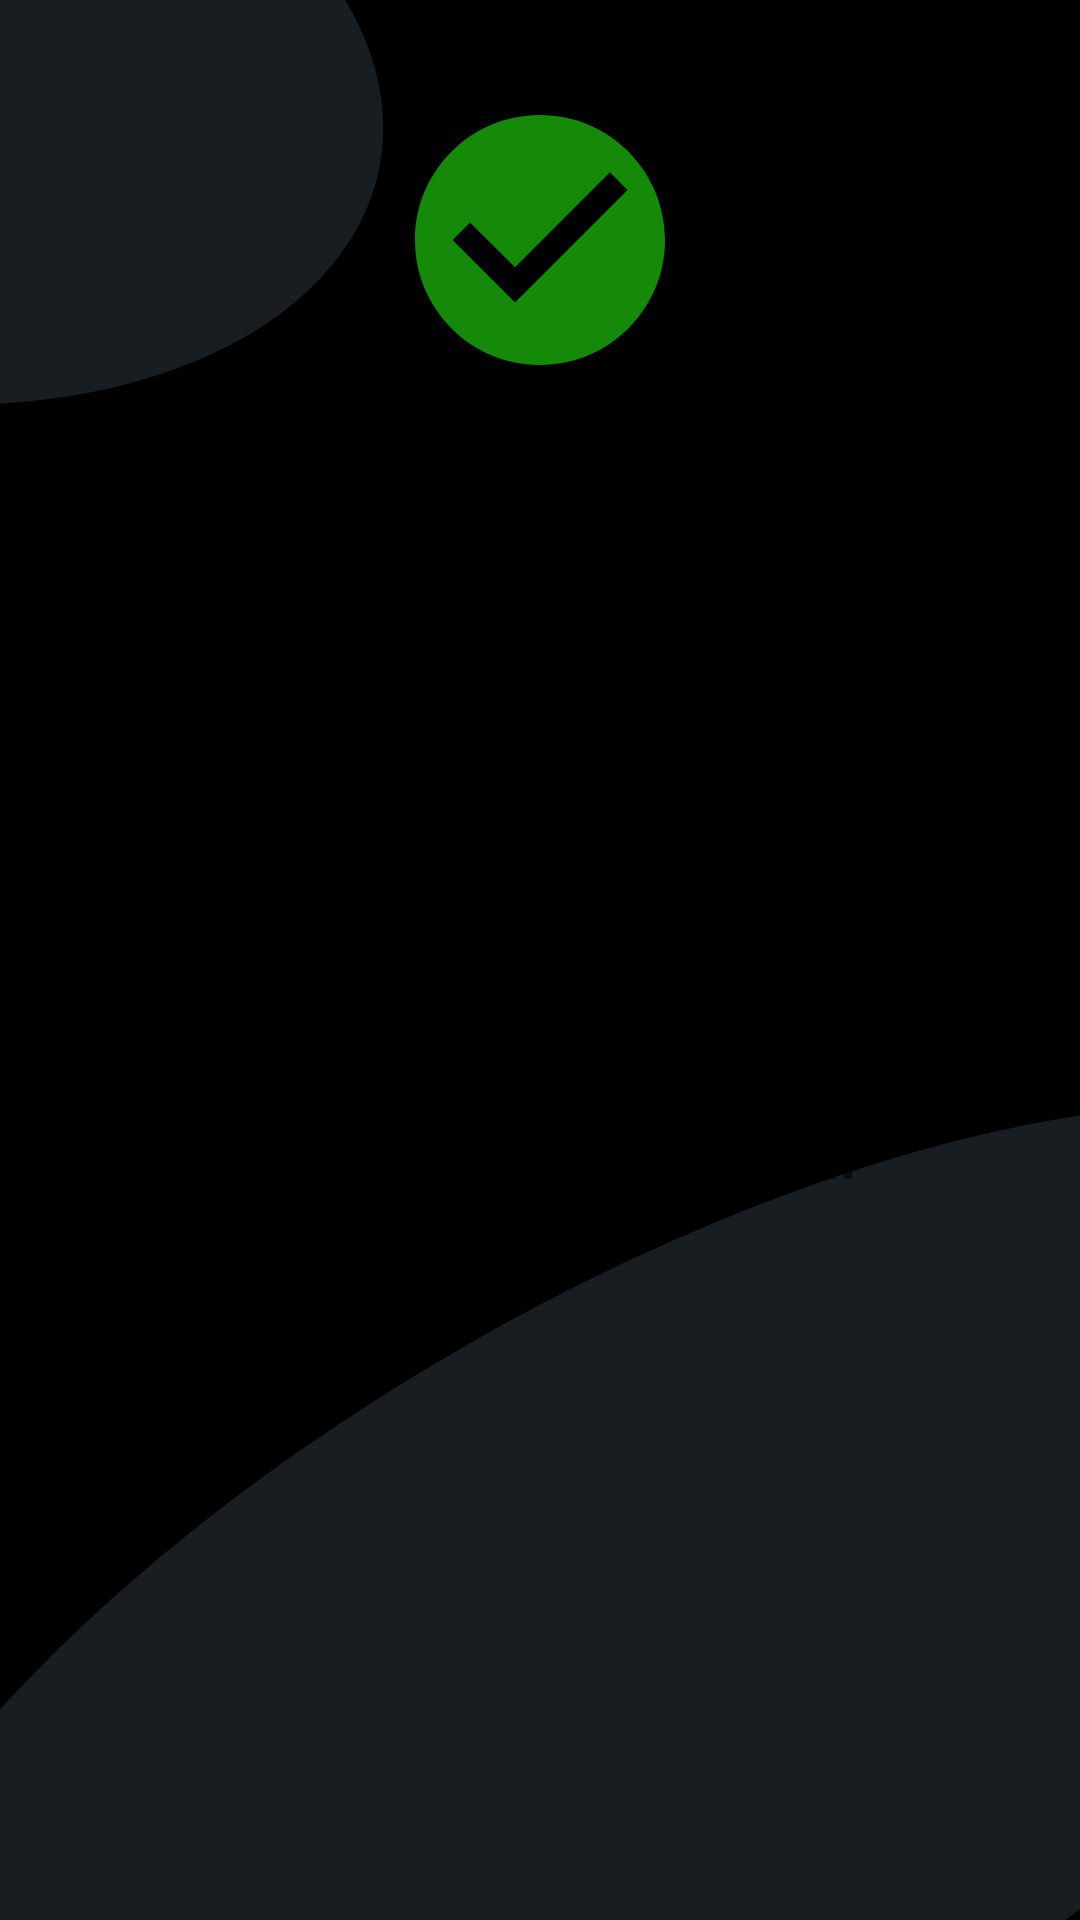

Icons on this 1080w x 1920h Android screen, each with the point to tap as (x,y):
Submission Successful Picure: (540,240)
